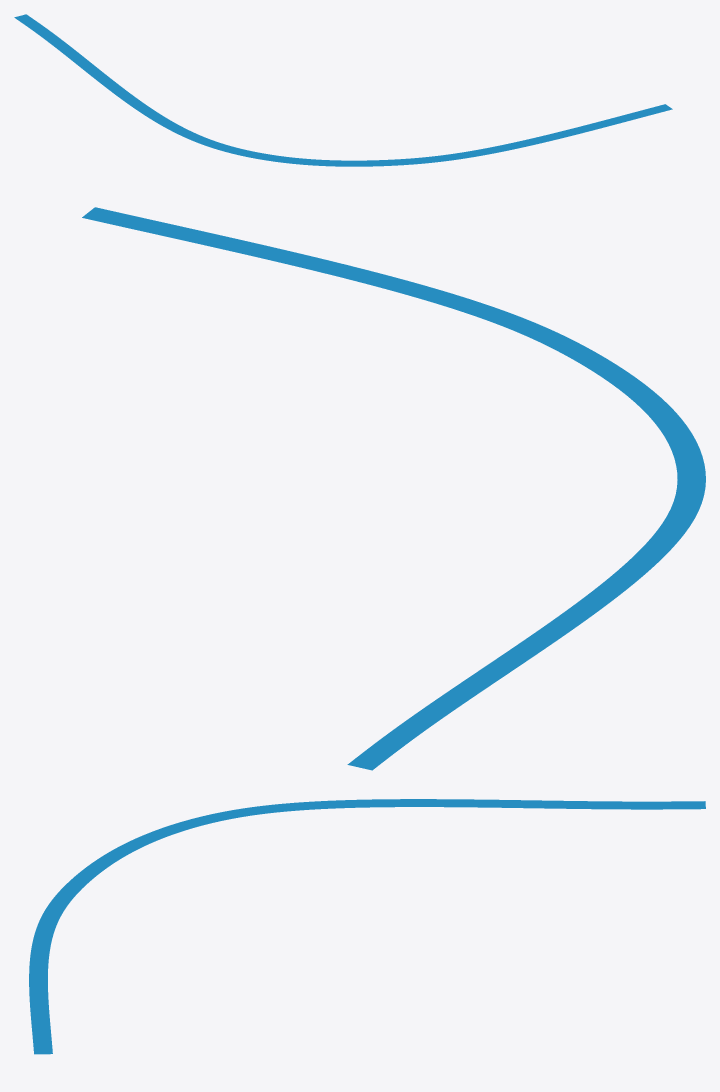
The model's file is guide.glb.
3 views of the same model, one above another, from view 1: azimuth 30°, elevation 25°; view 2: azimuth 150°, elevation 25°; view 3: azimuth 270°, elevation 25° (orthographic). The views are drawn at different scales.
Visible parts, largest first — view 1: static; view 2: static; view 3: static.
Boxes of the visible parts, x1,y1,x2,y2 form: static: (14, 14, 672, 166); static: (82, 207, 705, 770); static: (29, 799, 705, 1054).
Bounding box in the file's own units: 11.21 × 0 × 11.76.
